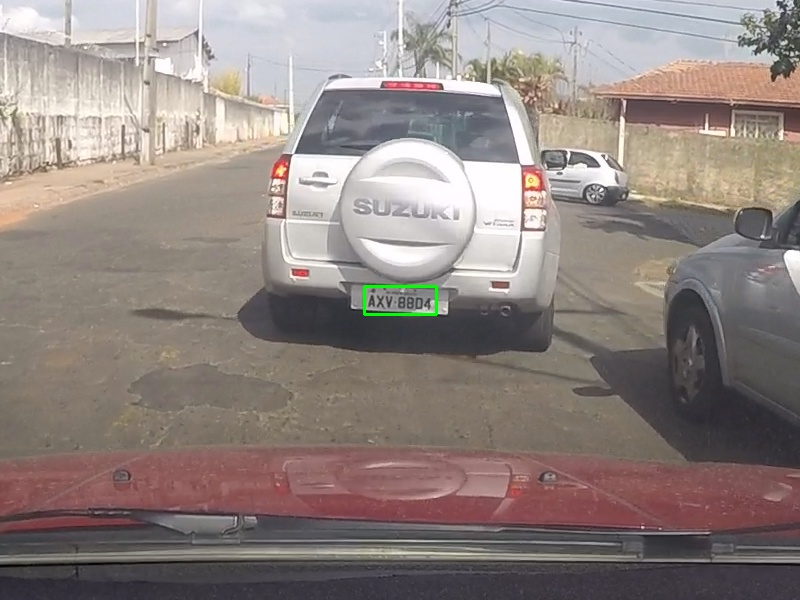placa: (364, 286, 436, 314)
